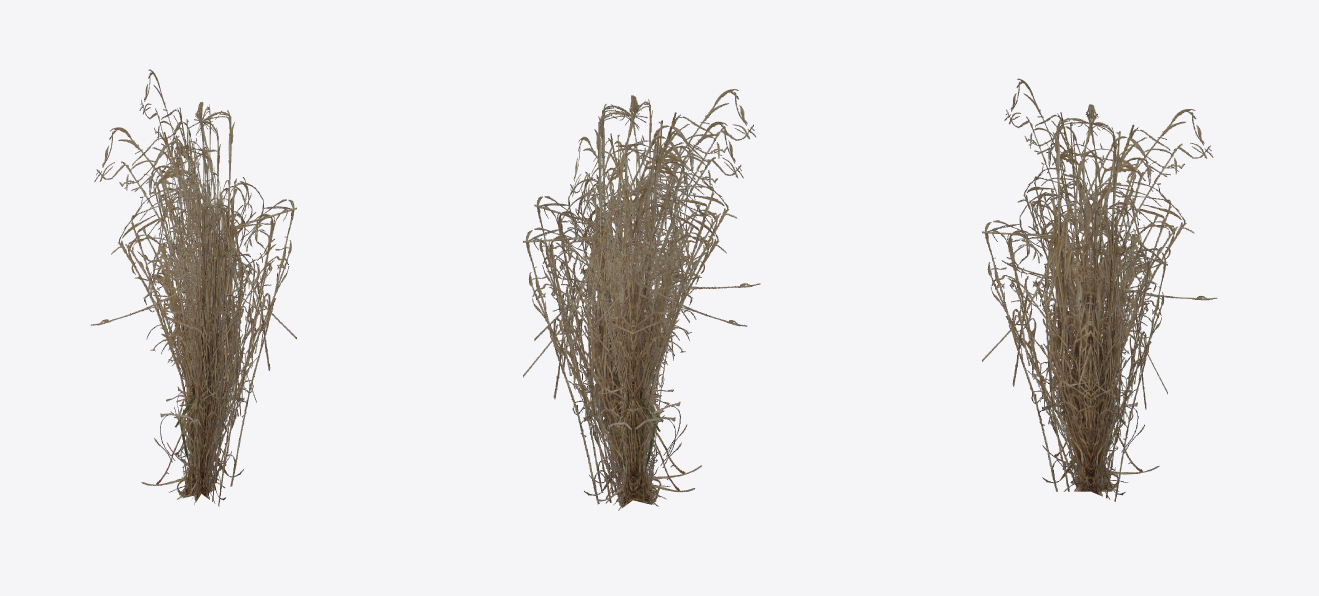
The model's file is plant1.glb.
3 renders of one model, left to right at view 1: azimuth 30°, elevation 25°; view 2: azimuth 150°, elevation 25°; view 3: azimuth 270°, elevation 25°, orthographic. The views are drawn at different scales.
Bounding box in the file's own units: 64 × 64 × 64.
Materials: 1 (1 with a texture image).
